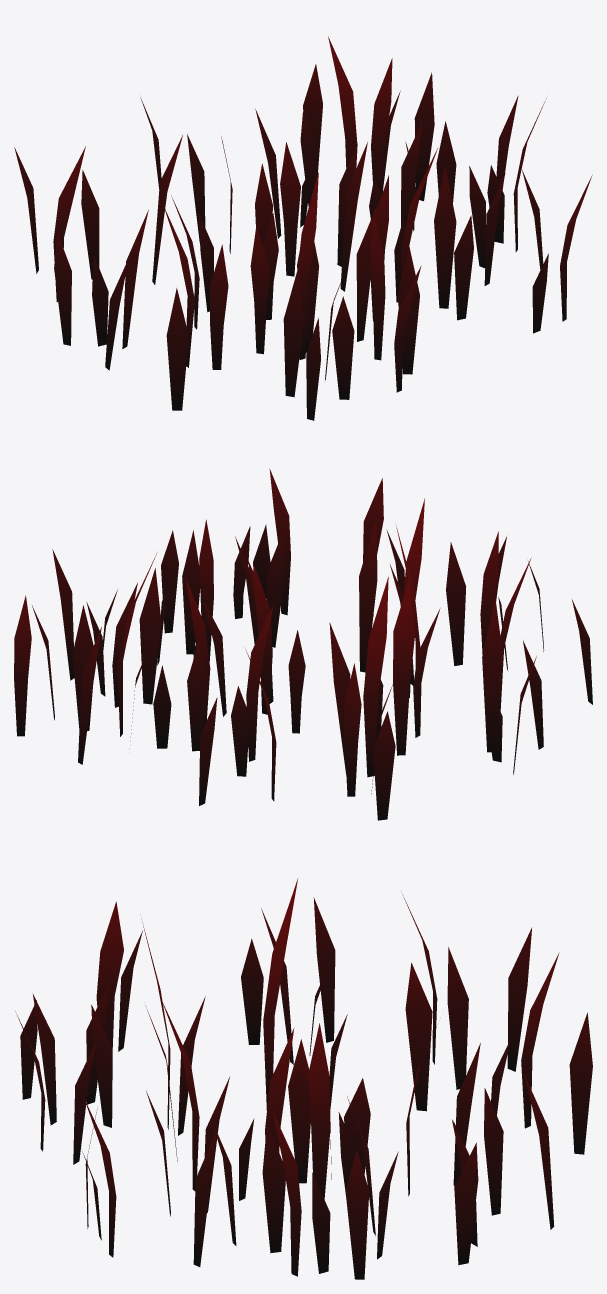
The model's file is SM_Grass_01.fbx.
3 renders of one model, top to bottom at view 1: azimuth 30°, elevation 25°; view 2: azimuth 150°, elevation 25°; view 3: azimuth 270°, elevation 25°, orthographic. The views are drawn at different scales.
Visible parts, largest first — view 1: SM_Grass_01_LOD0; view 2: SM_Grass_01_LOD0; view 3: SM_Grass_01_LOD0.
Boxes of the visible parts, <box> form: SM_Grass_01_LOD0: <box>14,36,592,420</box>; SM_Grass_01_LOD0: <box>14,469,592,820</box>; SM_Grass_01_LOD0: <box>15,879,592,1279</box>.
Size of the model in its own units: 165 by 70.95 by 156.
